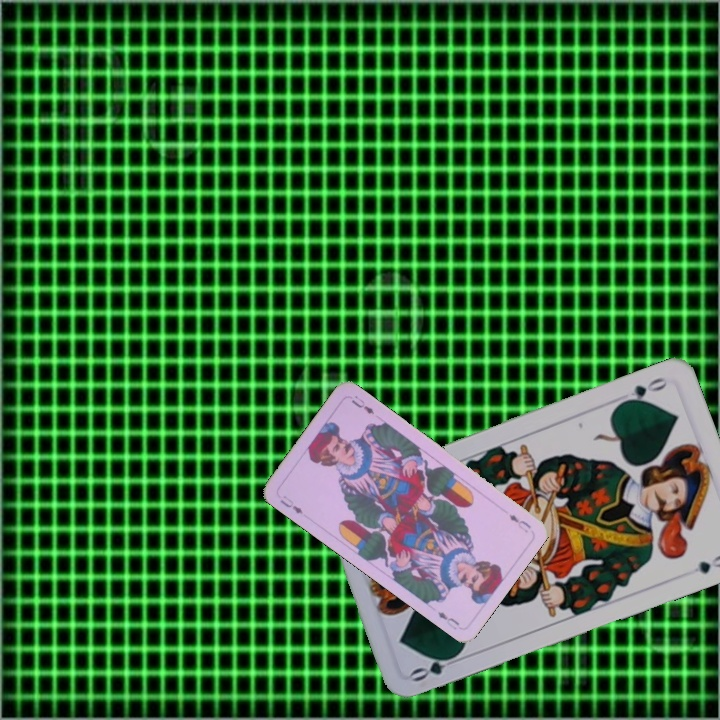EU: (276, 491, 306, 517), (505, 510, 534, 535)
GO: (406, 648, 465, 685), (616, 373, 670, 408)
